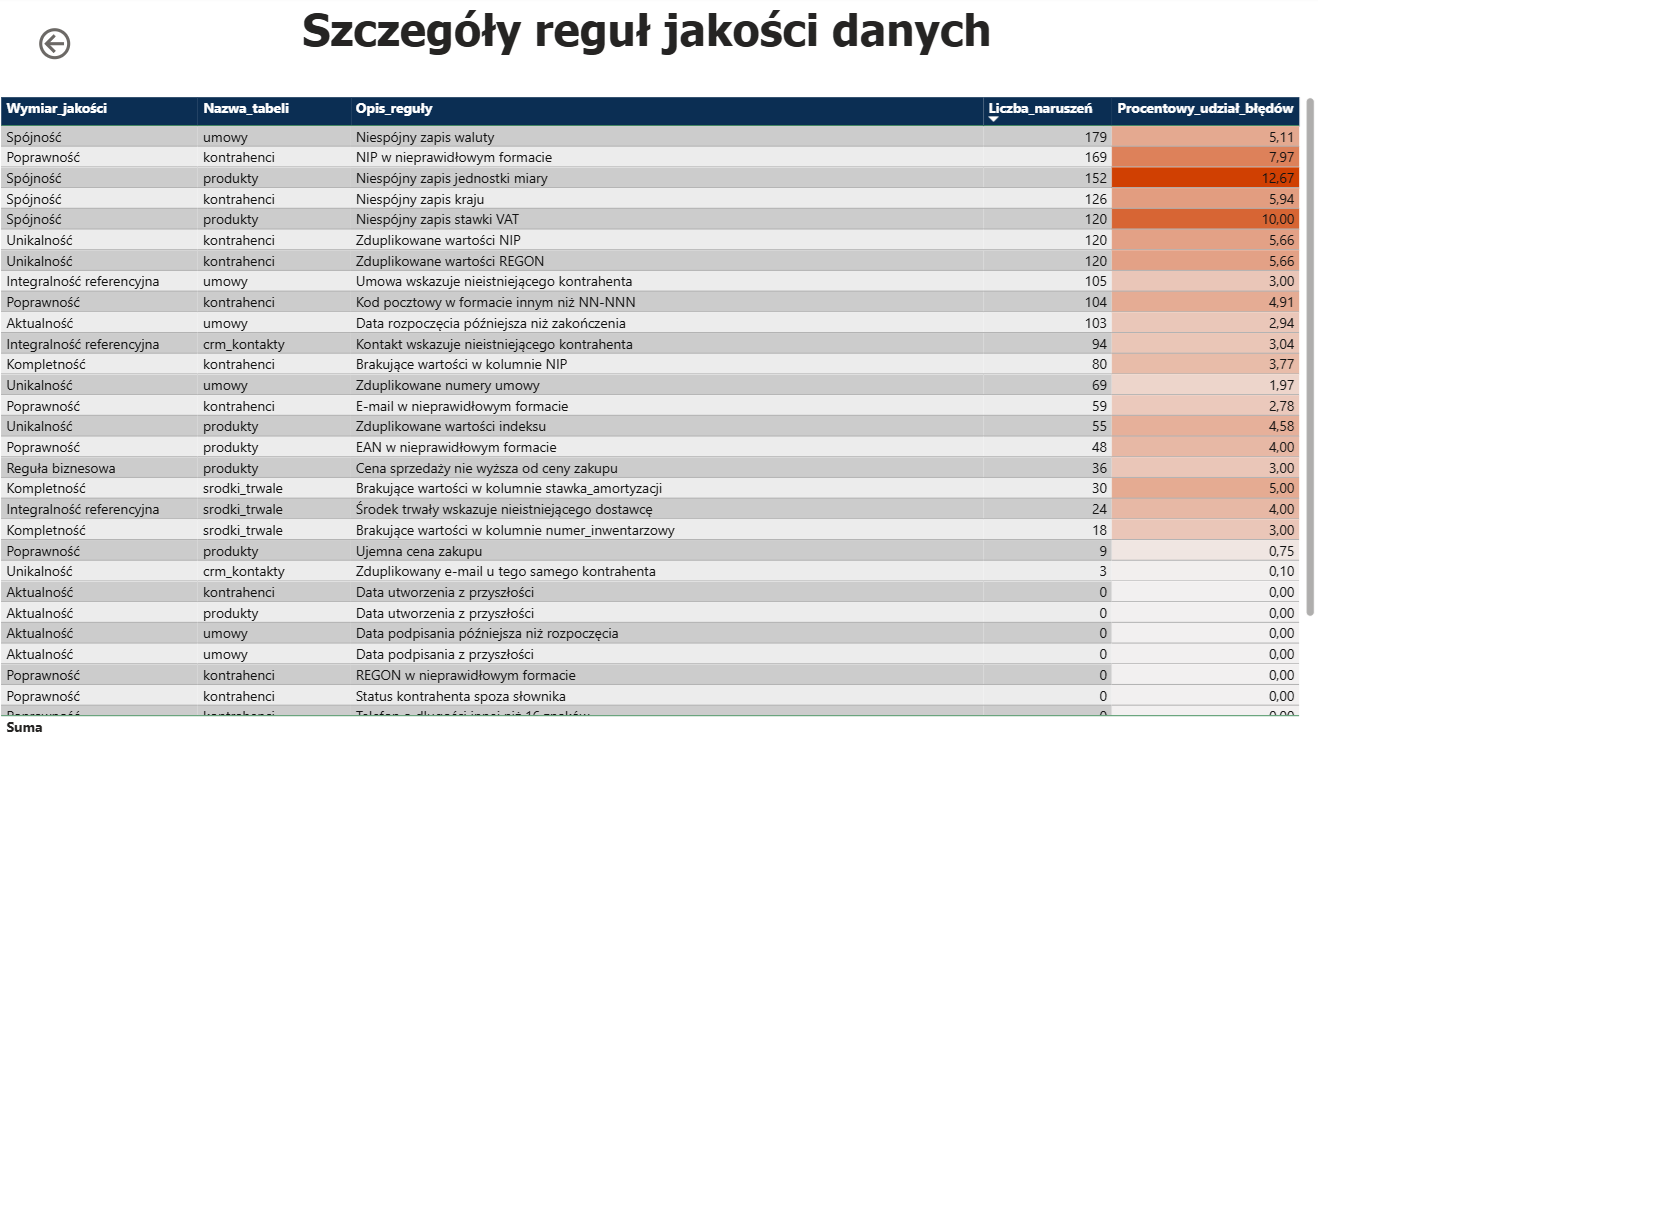

The dashboard page shown, as its layout file describes it:
{"tool":"powerbi","page":{"name":"Szczegóły","canvas":[1280,720],"ordinal":1},"visuals":[{"type":"tableEx","fields":{"Values":["dq_wyniki.Wymiar_jakości","dq_wyniki.Nazwa_tabeli","dq_wyniki.Opis_reguły","dq_wyniki.Liczba_naruszeń","dq_wyniki.Procentowy_udział_błędów"]},"box":[0,92.7,1280,627],"z":0},{"type":"actionButton","box":[37.9,26.3,100,40],"z":1001},{"type":"textbox","box":[291.8,0,874.4,92.4],"z":1002}]}

Visuals, with their boxes on the page's 1280x720 design canvas (x1, y1, x2, y2). These are canvas units, not pixel positions in the 1668x1227 screenshot, which may show the page scaled, cropped or inside an application window:
tableEx - dq_wyniki.Wymiar_jakości x dq_wyniki.Nazwa_tabeli: (x1=0, y1=93, x2=1280, y2=720)
actionButton: (x1=38, y1=26, x2=138, y2=66)
textbox: (x1=292, y1=0, x2=1166, y2=92)
